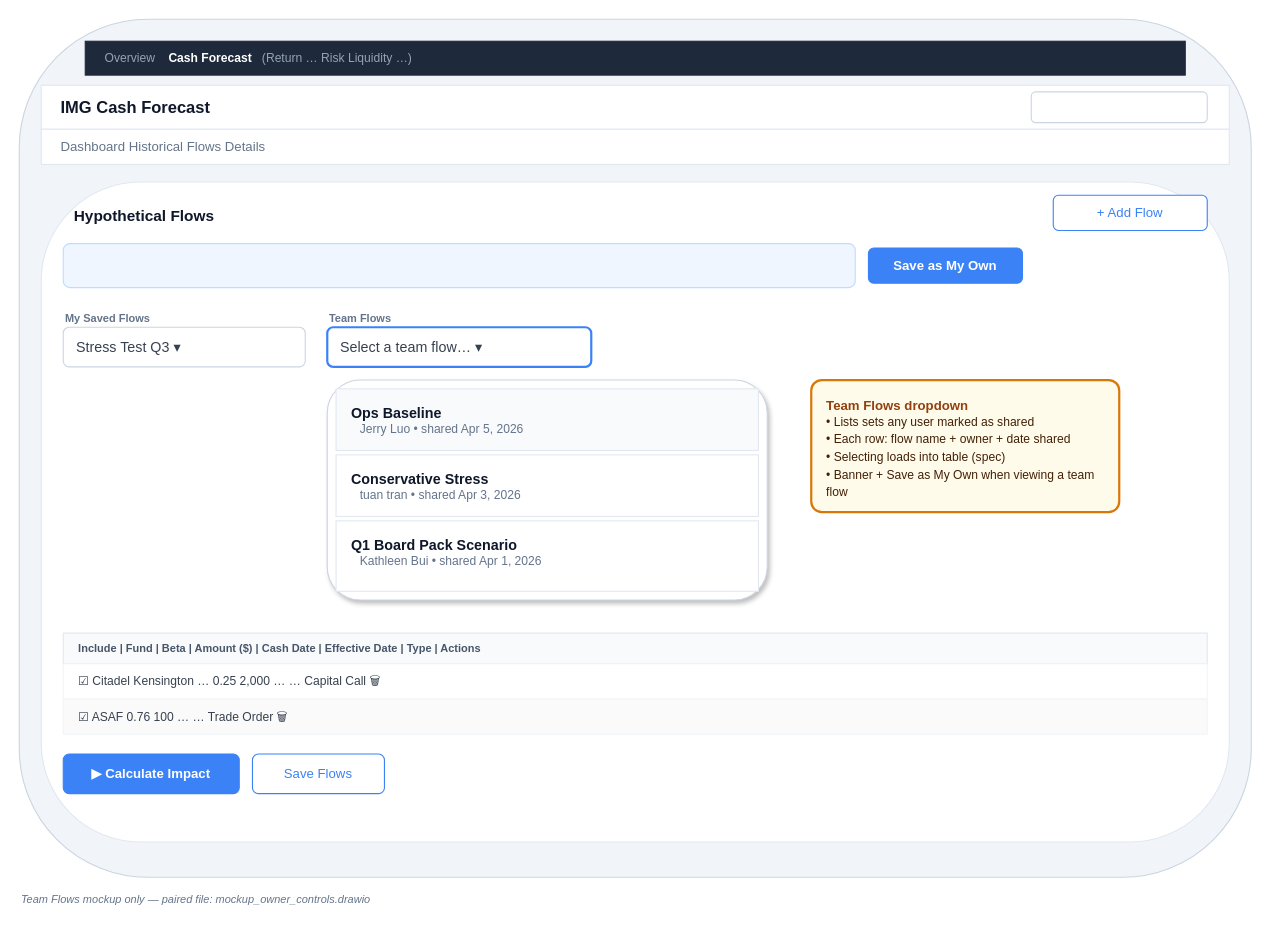
Some shapes in this 1271 by 927 pixel diagram are drawn without their labels. The shapes that lost their labels are listed below. From the top down, each one's centre as x and y in pixels, then its label:
pixel 1118 107: ⚙ Forecast Parameters
pixel 458 265: Viewing "Ops Baseline" shared by Jerry Luo
